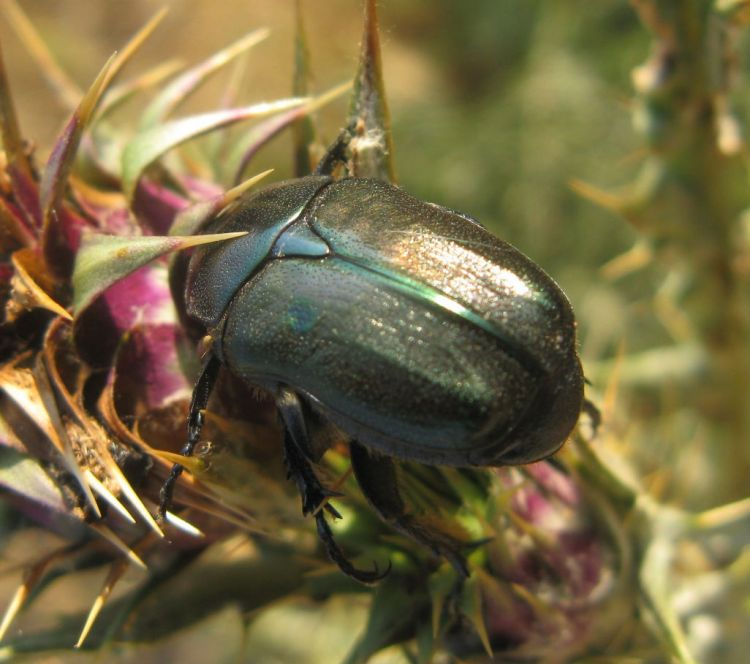Protaetia_angustata_angustata: (141, 158, 613, 607)
